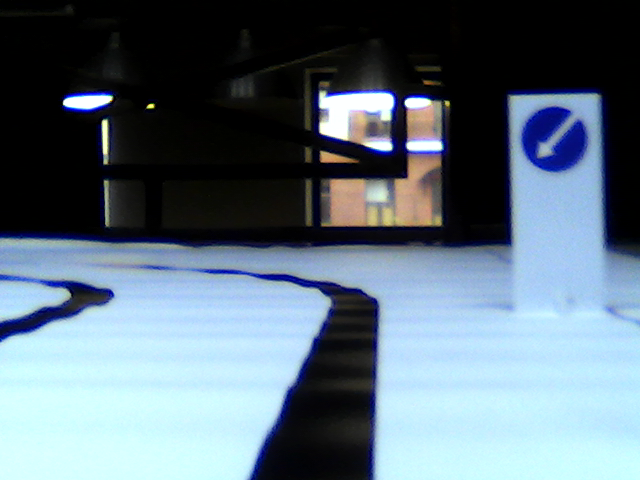prep: (518, 101, 588, 173)
